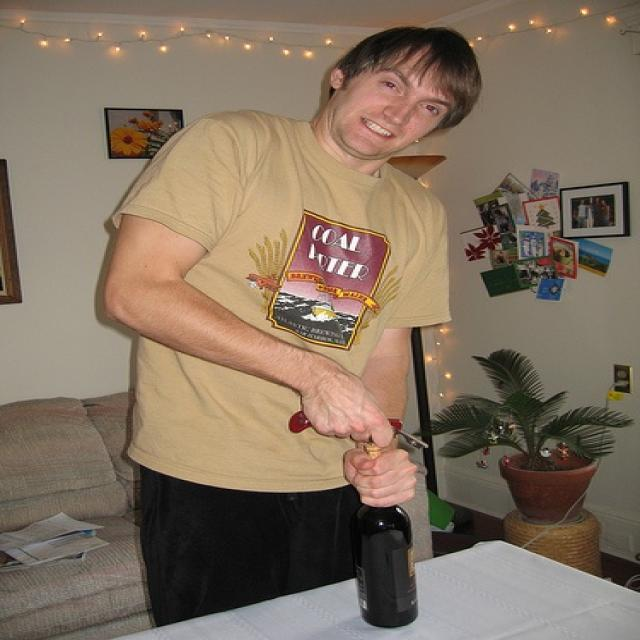bottle: (351, 440, 420, 630)
pottedplant: (413, 348, 633, 526)
